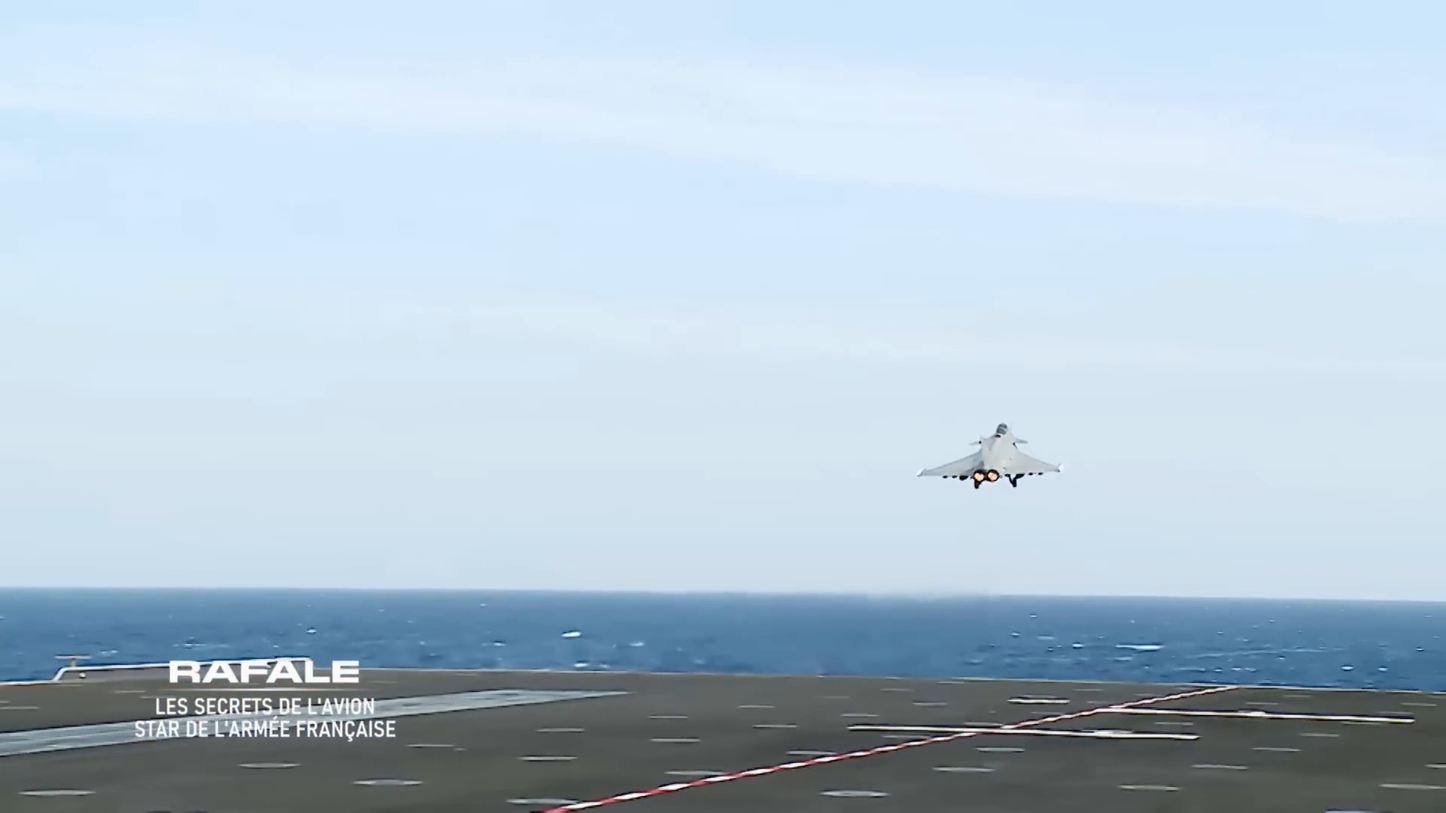Rafale: (915, 422, 1063, 491)
